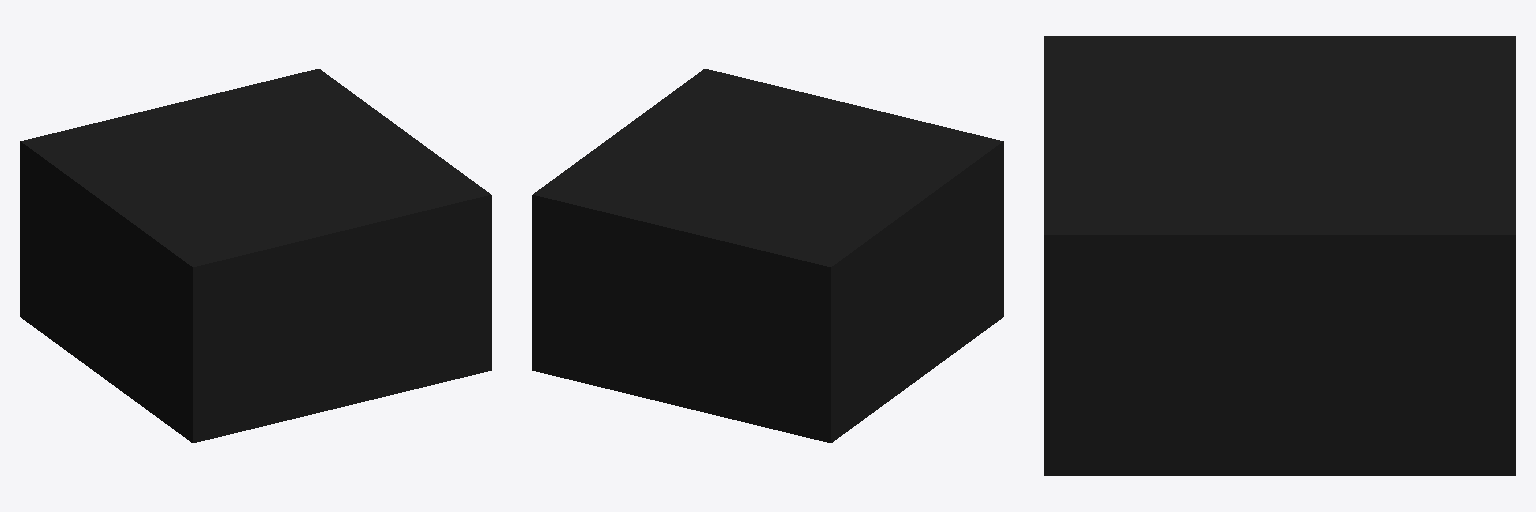
robot.urdf — sovol_sv08_simple_bed:
<?xml version="1.0"?>
<robot name="sovol_sv08_simple_bed">

  <!--
    Base:

    Overall printer size from online specs:
    X = 0.55 m
    Y = 0.537 m
    Z = 0.575 m
  -->
  <link name="ground">
    <inertial>
      <origin xyz="0.175 0.175 -0.1" rpy="0 0 0"/>
      <mass value="1.0"/>
      <inertia
        ixx="0.02" ixy="0.0" ixz="0.0"
        iyy="0.02" iyz="0.0"
        izz="0.02"/>
    </inertial>
    <visual>
      <origin xyz="0.175 0.175 -0.1" rpy="0 0 0"/>
      <geometry>
        <box size="0.355 0.355 0.2"/>
      </geometry>
      <material name="black">
        <color rgba="0.15 0.15 0.15 1.0"/>
      </material>
    </visual>
    <collision>
      <origin xyz="0.175 0.175 -0.1" rpy="0 0 0"/>
      <geometry>
        <box size="0.355 0.355 0.2"/>
      </geometry>
    </collision>
  </link>

</robot>

--- Render facts (derived) ---
3 views of the same robot in one strip: view 1: azimuth 30°, elevation 25°; view 2: azimuth 150°, elevation 25°; view 3: azimuth 270°, elevation 25° (orthographic).
Robot: sovol_sv08_simple_bed — 1 links, 0 joints (none); root link ground; default pose: every joint at zero.
Visible links, largest first — view 1: ground; view 2: ground; view 3: ground.
Link boxes in pixels (x1,y1,x2,y2): ground: (20, 69, 491, 442); ground: (532, 69, 1003, 442); ground: (1044, 36, 1515, 475).
Bounding box of the posed robot: 0.355 × 0.355 × 0.2 m (x, y, z).
Geometry: primitives only (box / cylinder / sphere), no mesh files.
